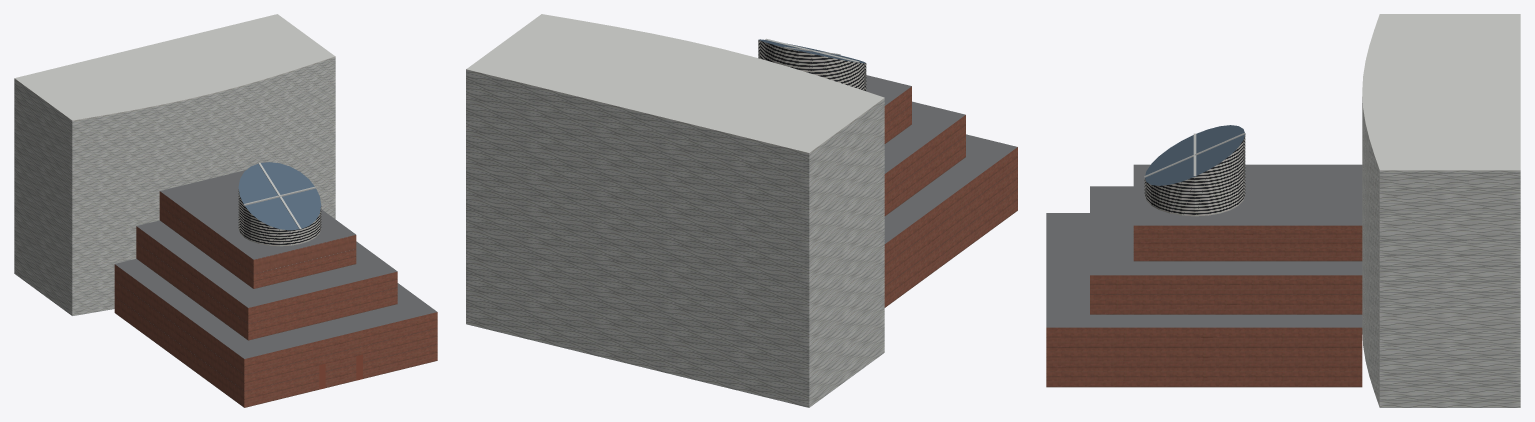
The model's file is sfmoma.glb.
The picture shows the model from 3 angles, left to right: view 1: azimuth 30°, elevation 25°; view 2: azimuth 150°, elevation 25°; view 3: azimuth 270°, elevation 25°; orthographic projection. The views are drawn at different scales.
Parts seen in each view (by area): view 1: sfmoma; view 2: sfmoma; view 3: sfmoma.
Boxes of the visible parts, <box> form: sfmoma: <box>14,14,437,407</box>; sfmoma: <box>466,14,1017,407</box>; sfmoma: <box>1046,14,1520,407</box>.
Size of the model in its own units: 84.5 by 60.01 by 108.
Materials: 3 (3 with a texture image).
